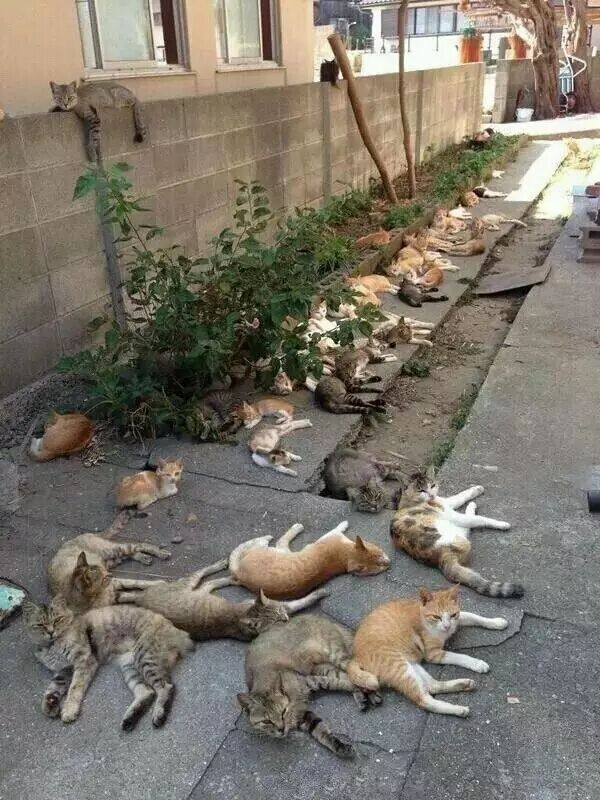cat: (21, 594, 194, 732), (345, 585, 510, 719), (238, 613, 382, 760), (391, 465, 527, 601), (114, 560, 333, 641), (229, 519, 393, 601), (45, 509, 172, 613), (325, 448, 398, 515), (314, 358, 387, 415), (249, 419, 313, 478), (113, 458, 183, 511), (184, 389, 250, 440), (26, 412, 92, 462), (269, 354, 340, 395), (335, 337, 396, 379), (289, 300, 338, 344), (233, 398, 296, 429), (341, 273, 400, 305), (398, 275, 451, 309), (472, 213, 527, 232), (430, 208, 466, 234), (460, 189, 481, 207)
